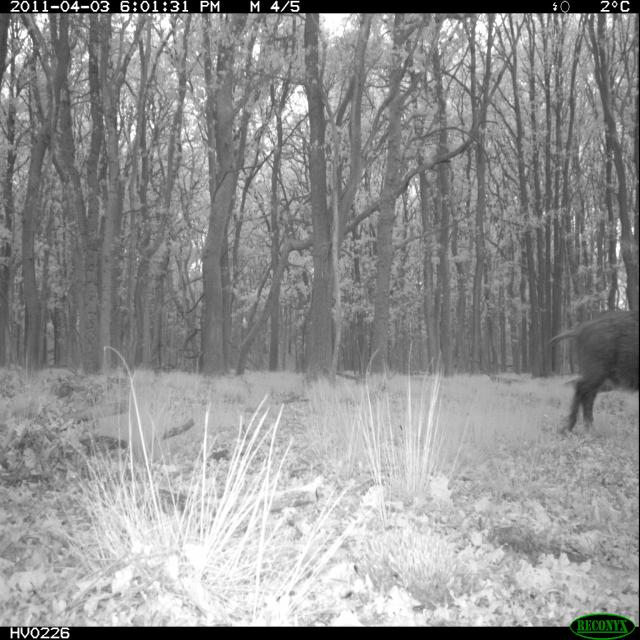boar: (550, 287, 640, 458)
